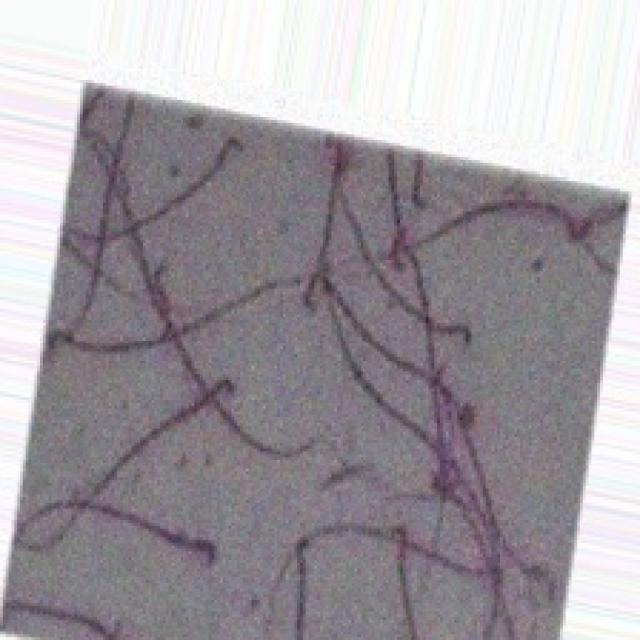Spiral_bacteria: (0, 80, 629, 637)
